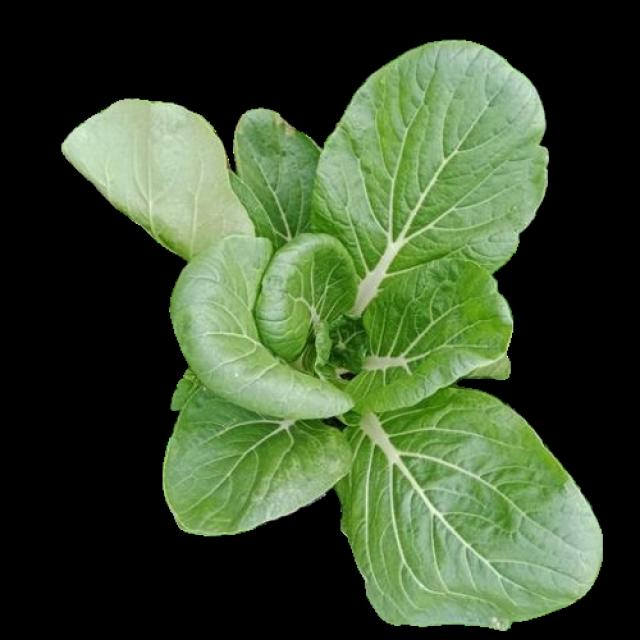healthy: (63, 38, 600, 626)
mature: (65, 41, 603, 628)
